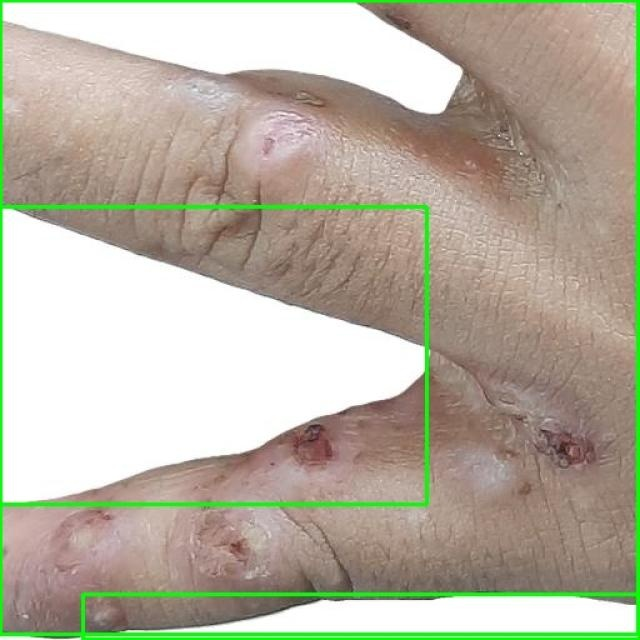Scabies: (0, 0, 639, 635), (0, 206, 426, 504), (82, 594, 639, 639)
